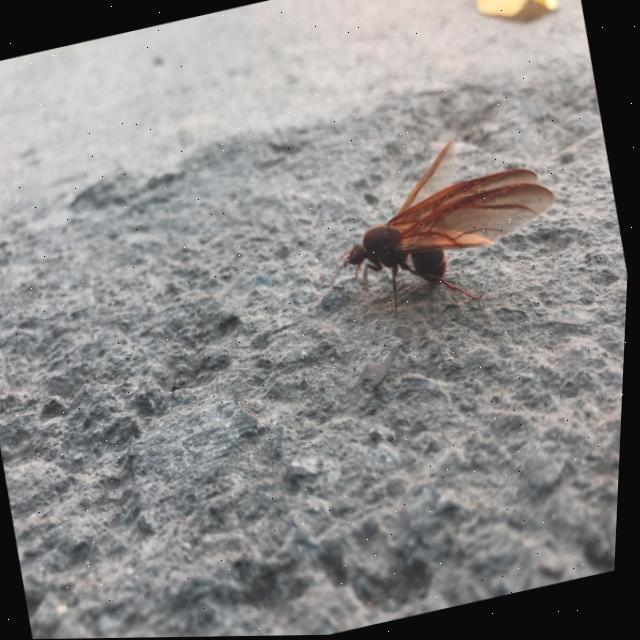Alive-Female-Alate: (310, 119, 577, 331)
